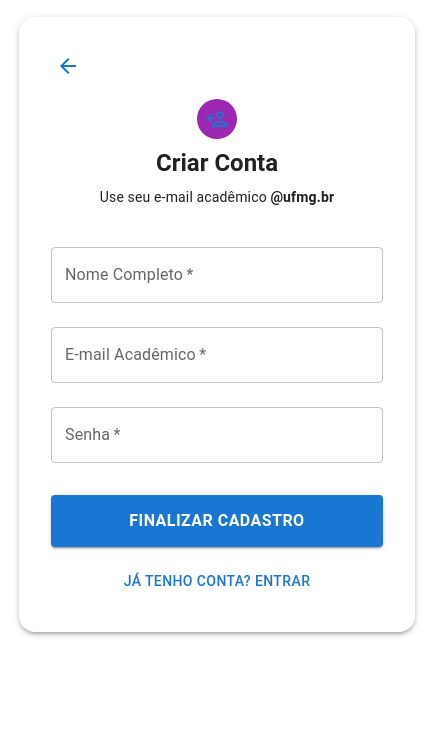
Test: Cadastro — submit chama a API › exibe mensagem de sucesso após cadastro bem-sucedido
Type "João" into the field labelled "Nome Completo *" at (217, 275), box top-left (51, 247), bottom-right (383, 303)
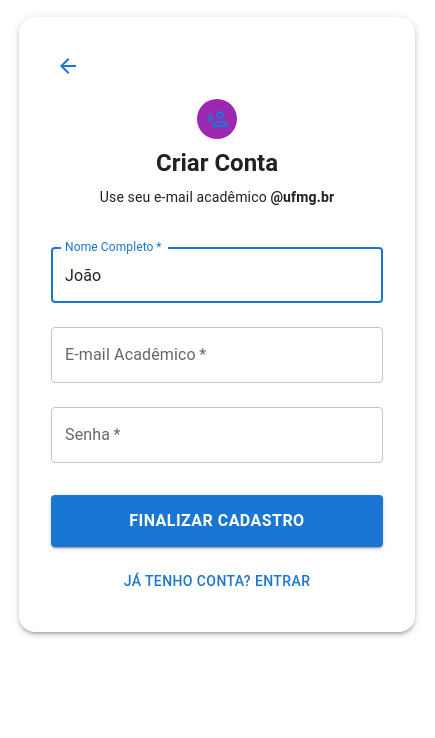
Type "joao@ufmg.br" into the field labelled "E-mail Acadêmico *" at (217, 355), box top-left (51, 327), bottom-right (383, 383)
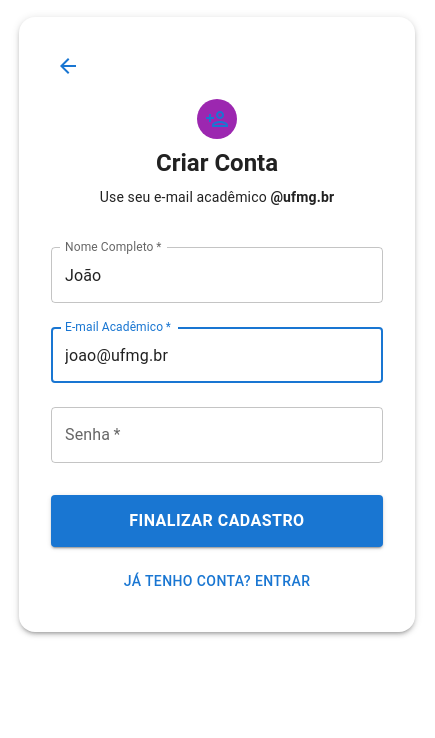
Type "abc123" into the password field labelled "Senha *" at (217, 435), box top-left (51, 407), bottom-right (383, 463)
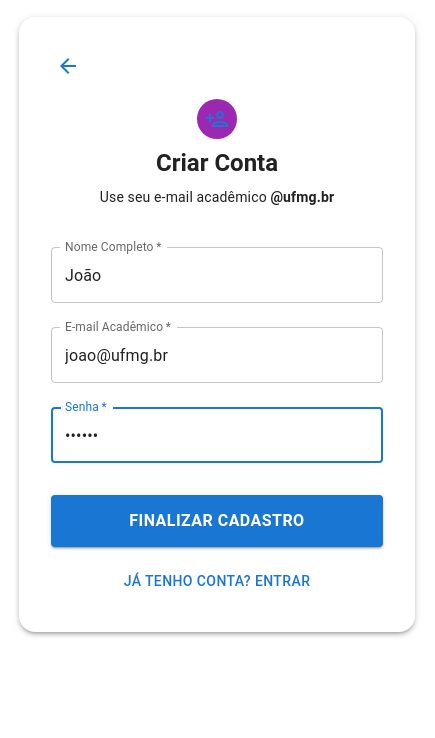
Click the button "Finalizar Cadastro" at (217, 521), box top-left (51, 495), bottom-right (383, 547)
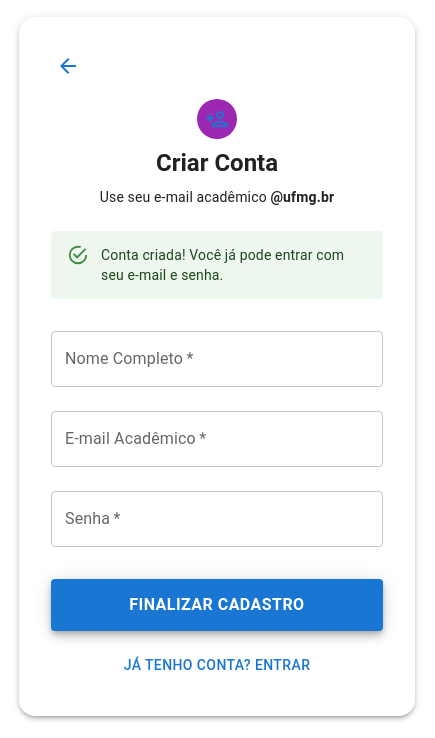
Check: the message "Conta criada! Você já pode entrar com seu e-mail e senha." is shown, box top-left (51, 231), bottom-right (383, 299)
Check: the text "Conta criada! Você já pode entrar com seu e-mail e senha." is shown, box top-left (101, 237), bottom-right (367, 293)
